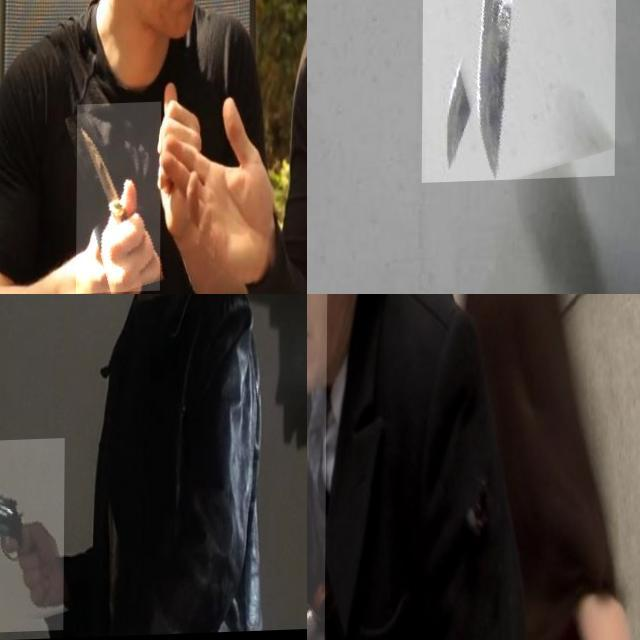-: (422, 0, 617, 185), (76, 102, 161, 294)
gun-knife-thesis - v11 Yolov5 augmented: (307, 294, 466, 640), (0, 440, 65, 635)
